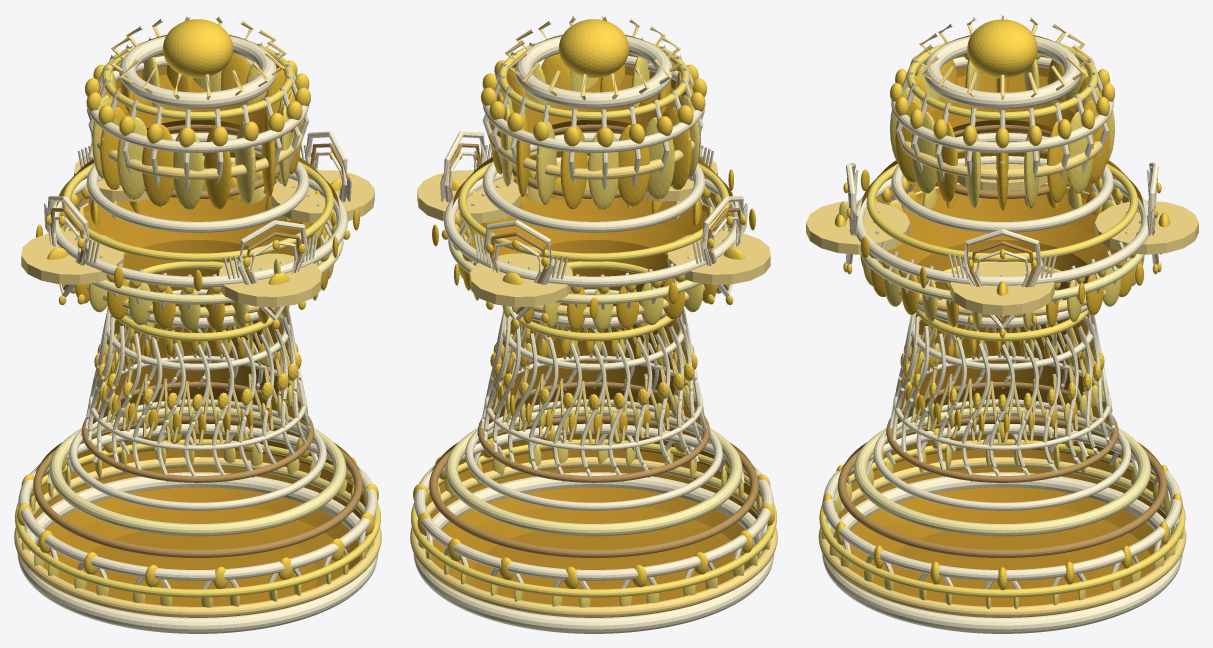
File: Royal_Yellow_Token.glb
3 views of the same model, side by side, from view 1: azimuth 30°, elevation 25°; view 2: azimuth 150°, elevation 25°; view 3: azimuth 270°, elevation 25° (orthographic).
Visible parts, largest first — view 1: yellow_jewel_material_1, yellow_jewel_material_0, yellow_jewel_material_3, yellow_jewel_material_2, yellow_jewel_material_7, yellow_jewel_material_6, yellow_jewel_material_4, yellow_jewel_material_5; view 2: yellow_jewel_material_1, yellow_jewel_material_0, yellow_jewel_material_2, yellow_jewel_material_3, yellow_jewel_material_7, yellow_jewel_material_6, yellow_jewel_material_4, yellow_jewel_material_5; view 3: yellow_jewel_material_1, yellow_jewel_material_0, yellow_jewel_material_2, yellow_jewel_material_3, yellow_jewel_material_7, yellow_jewel_material_6, yellow_jewel_material_4, yellow_jewel_material_5.
Part boxes in pixels (left/top/right/bottom): yellow_jewel_material_1: left=17, top=36, right=378, bottom=633; yellow_jewel_material_0: left=29, top=35, right=365, bottom=606; yellow_jewel_material_3: left=15, top=41, right=380, bottom=607; yellow_jewel_material_2: left=14, top=16, right=381, bottom=617; yellow_jewel_material_7: left=17, top=19, right=378, bottom=588; yellow_jewel_material_6: left=36, top=54, right=359, bottom=434; yellow_jewel_material_4: left=33, top=124, right=362, bottom=557; yellow_jewel_material_5: left=49, top=187, right=346, bottom=536; yellow_jewel_material_1: left=413, top=36, right=774, bottom=633; yellow_jewel_material_0: left=426, top=34, right=762, bottom=606; yellow_jewel_material_2: left=410, top=15, right=777, bottom=617; yellow_jewel_material_3: left=411, top=41, right=776, bottom=607; yellow_jewel_material_7: left=413, top=19, right=774, bottom=588; yellow_jewel_material_6: left=432, top=54, right=755, bottom=434; yellow_jewel_material_4: left=429, top=124, right=758, bottom=557; yellow_jewel_material_5: left=445, top=187, right=742, bottom=536; yellow_jewel_material_1: left=822, top=36, right=1182, bottom=633; yellow_jewel_material_0: left=838, top=35, right=1166, bottom=606; yellow_jewel_material_2: left=806, top=15, right=1198, bottom=617; yellow_jewel_material_3: left=819, top=43, right=1185, bottom=608; yellow_jewel_material_7: left=822, top=19, right=1182, bottom=590; yellow_jewel_material_6: left=860, top=59, right=1144, bottom=433; yellow_jewel_material_4: left=837, top=125, right=1167, bottom=557; yellow_jewel_material_5: left=854, top=183, right=1150, bottom=536.
Size of the model in its own units: 0.558 by 0.865 by 0.558.
